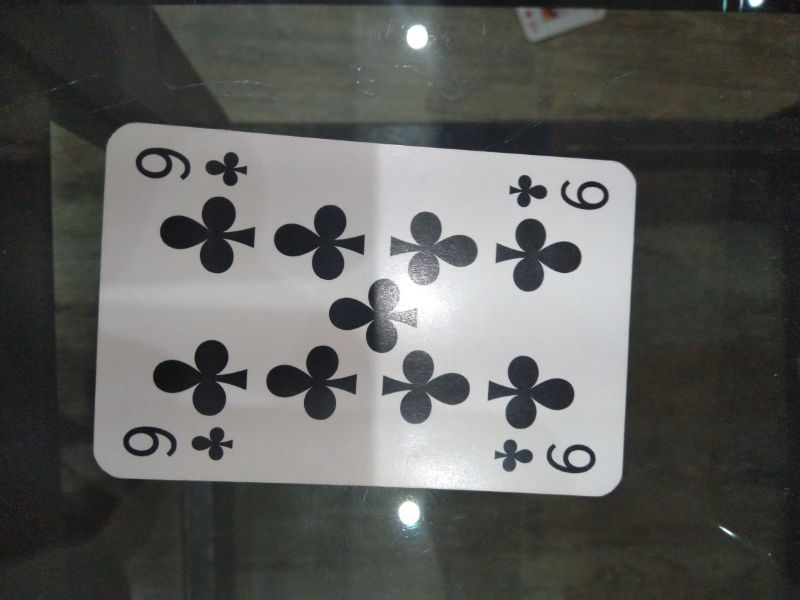9c: (133, 144, 251, 192), (505, 168, 613, 215), (491, 435, 598, 481), (120, 424, 239, 464)
